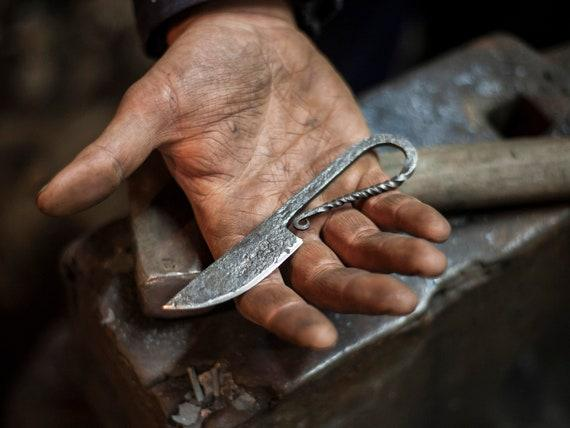Knife: (42, 0, 446, 348), (161, 199, 299, 313)
